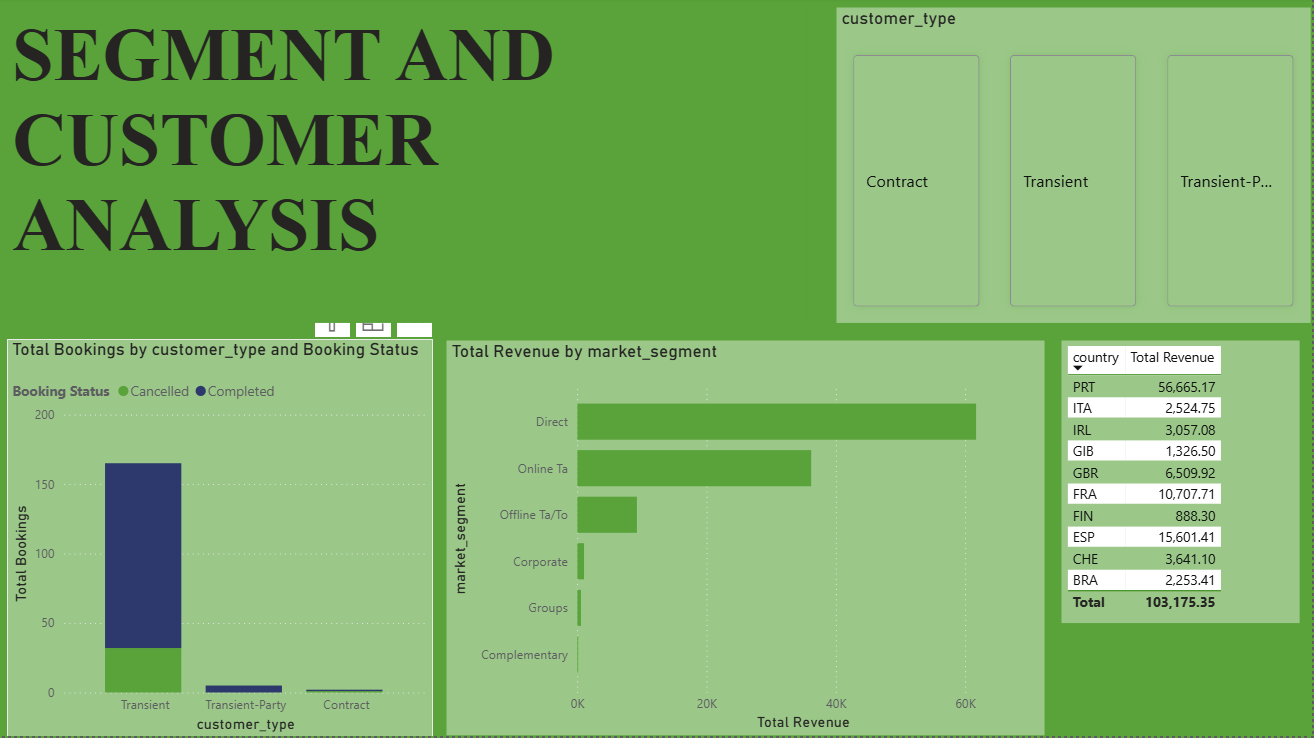

What the dashboard file says about the page in this screenshot:
{"tool":"powerbi","page":{"name":"Segment and Customer Analysis","canvas":[1280,720],"ordinal":1},"visuals":[{"type":"clusteredBarChart","fields":{"Category":["Fact_bookings.market_segment"],"Y":["All_Measures.Total Revenue"]},"box":[437.6,334.6,583,384.6],"z":0},{"type":"columnChart","fields":{"Category":["DimCustomer.customer_type"],"Series":["Fact_bookings.Booking Status"],"Y":["All_Measures.Total Bookings"]},"box":[9.4,332.6,413.9,387.4],"z":1000},{"type":"tableEx","fields":{"Values":["Fact_bookings.country","All_Measures.Total Revenue"]},"box":[1035.7,334.6,231.7,275.6],"z":2000},{"type":"advancedSlicerVisual","fields":{"Values":["DimCustomer.customer_type"]},"box":[817.7,10.6,461.8,307.4],"z":2001},{"type":"textbox","box":[9.1,10.6,779.8,307.4],"z":2002}]}

Visuals, with their boxes in screenshot pixels (x1, y1, x2, y2), scaled from the page's 1280x720 canvas onto the 1314x738 screenshot:
clusteredBarChart - Fact_bookings.market_segment x All_Measures.Total Revenue: (449,343,1048,737)
columnChart - DimCustomer.customer_type x Fact_bookings.Booking Status: (10,341,435,737)
tableEx - Fact_bookings.country x All_Measures.Total Revenue: (1063,343,1301,625)
advancedSlicerVisual - DimCustomer.customer_type: (839,11,1313,326)
textbox: (9,11,810,326)
